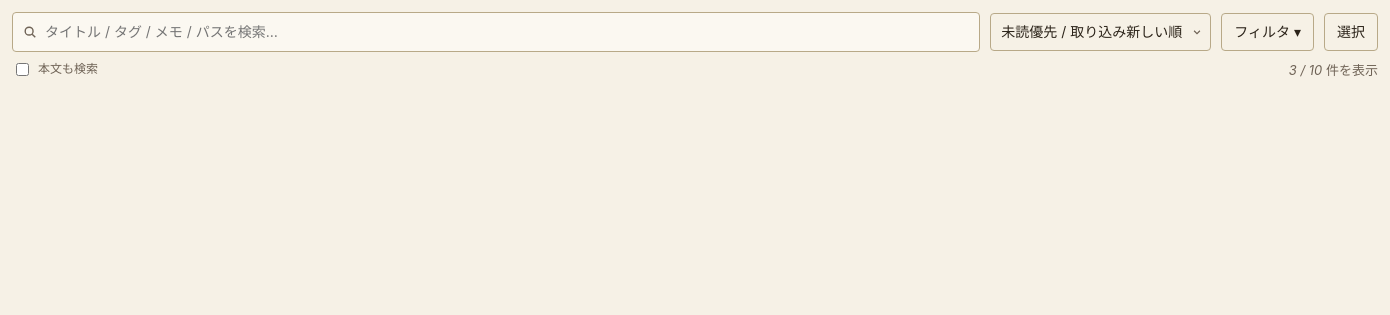
LibraryToolbar › フィルタを展開すると形式や状態のオプションが出る
The width and height of the screenshot is (1390, 315).
Click the button "フィルタ ▾": (1268, 32) x1=1221 y1=13 x2=1314 y2=51
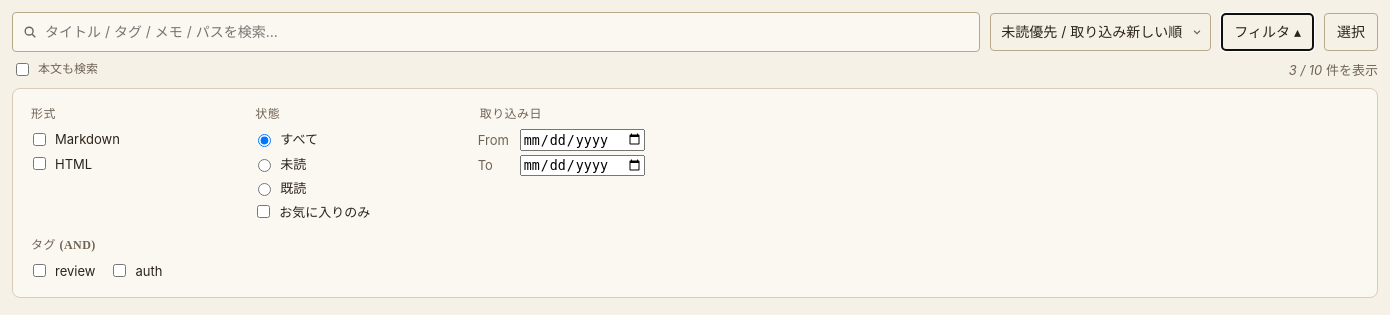
Result: the checkbox labelled "Markdown" is shown at x1=33 y1=133 x2=46 y2=146
Result: the checkbox labelled "HTML" is shown at x1=33 y1=157 x2=46 y2=170
Result: the radio button labelled "未読" is shown at x1=258 y1=159 x2=271 y2=172
